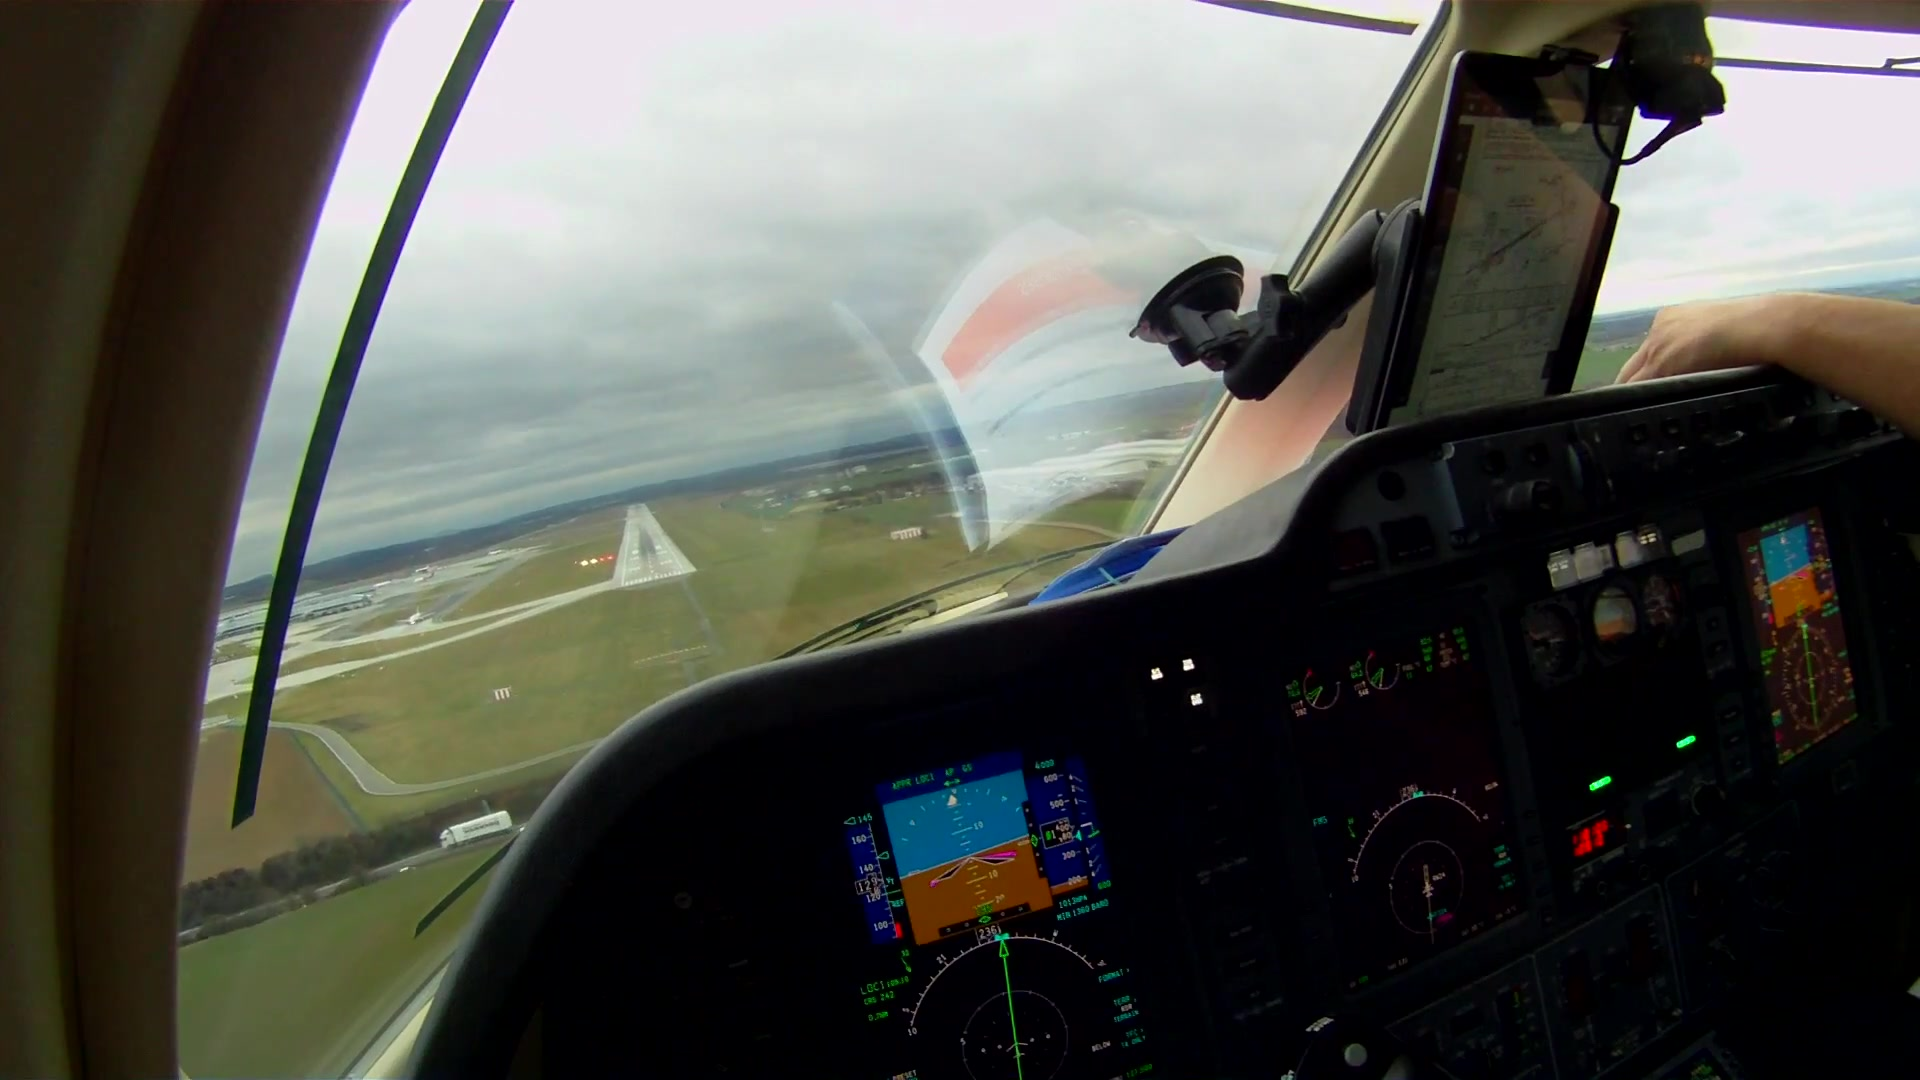entrance: (624, 570, 682, 585)
runway: (612, 500, 698, 591)
